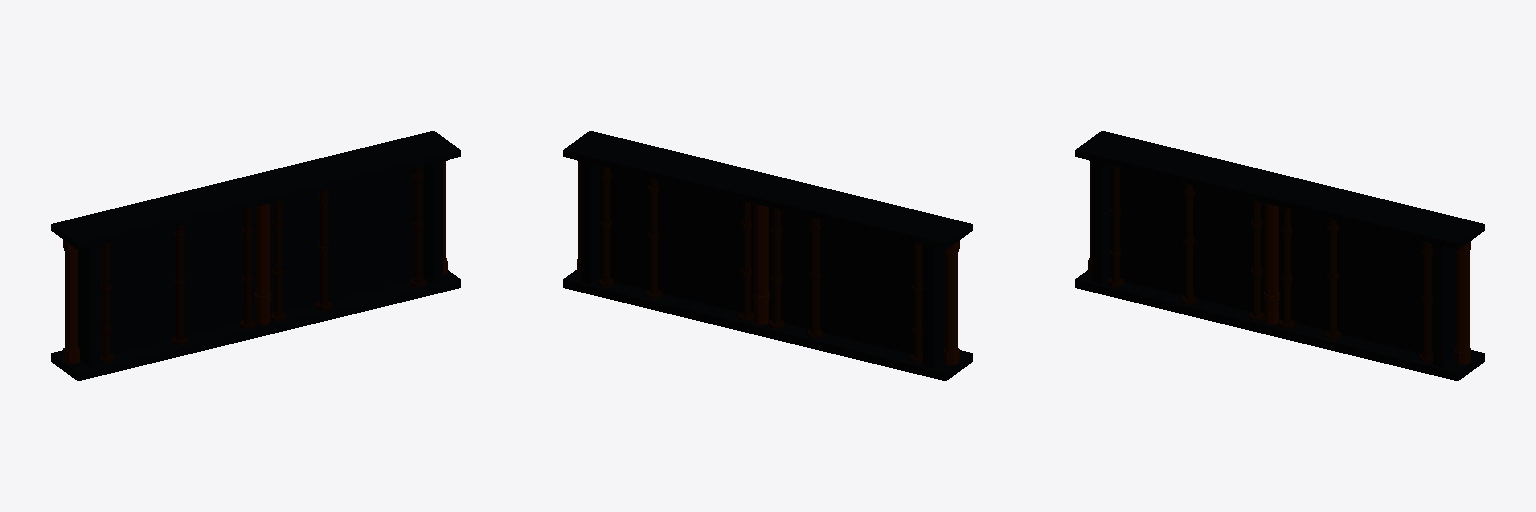
The model's file is Wall_Small_Pipes.obj.
The picture shows the model from 3 angles: view 1: azimuth 30°, elevation 25°; view 2: azimuth 150°, elevation 25°; view 3: azimuth 330°, elevation 25°; orthographic projection.
Parts seen in each view (by area): view 1: wall_with_small_pipes; view 2: wall_with_small_pipes; view 3: wall_with_small_pipes.
Boxes of the visible parts, <box> form: wall_with_small_pipes: <box>51,131,460,380</box>; wall_with_small_pipes: <box>563,131,972,380</box>; wall_with_small_pipes: <box>1075,131,1484,380</box>.
Bounding box in the file's own units: 8.74 × 3 × 1.07.